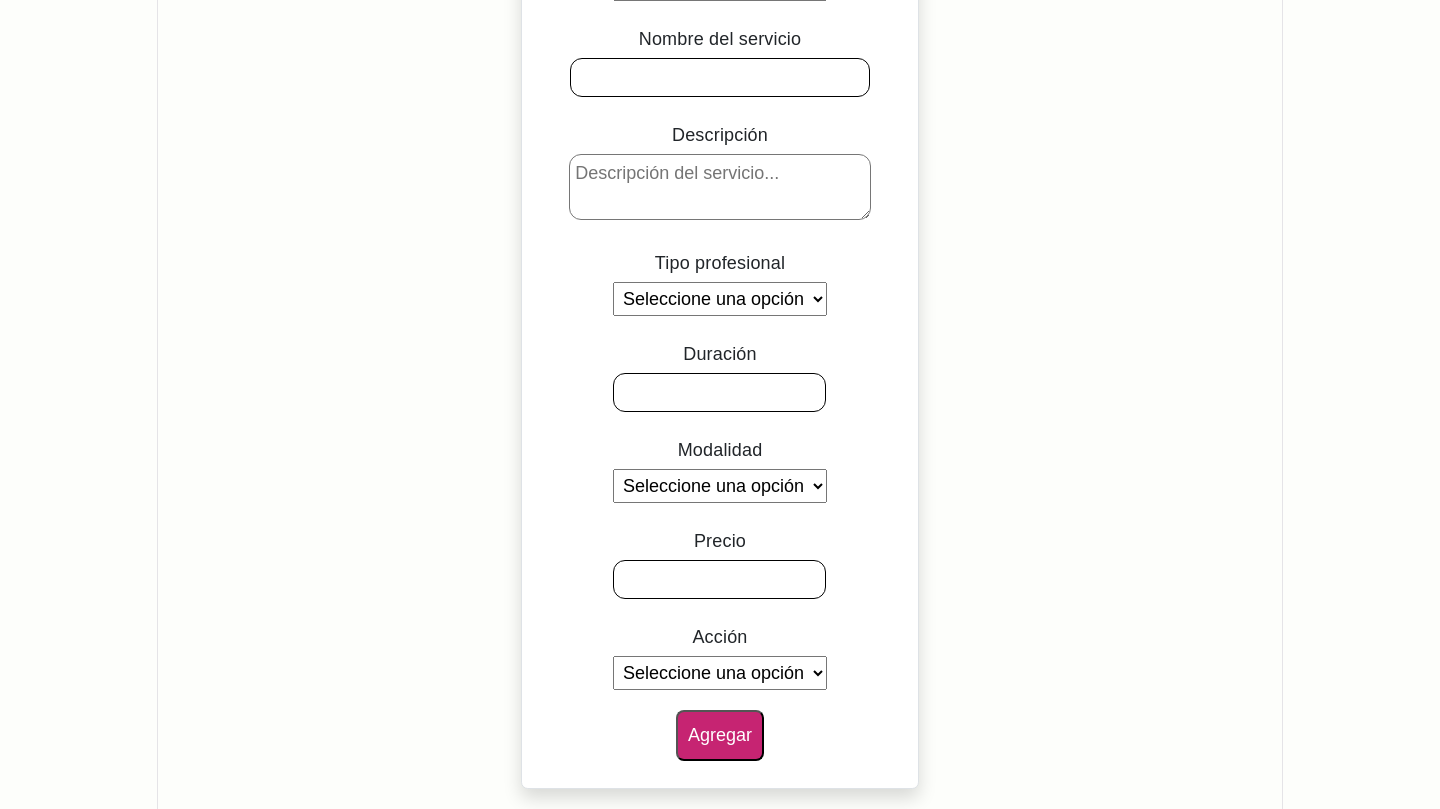
Componente Agregar › 2. Muestra un error cuando los campos están vacíos
The image size is (1440, 809).
(page scrolled)
Click the button "Agregar" at (720, 736), box [676,710,764,761]
(page scrolled)
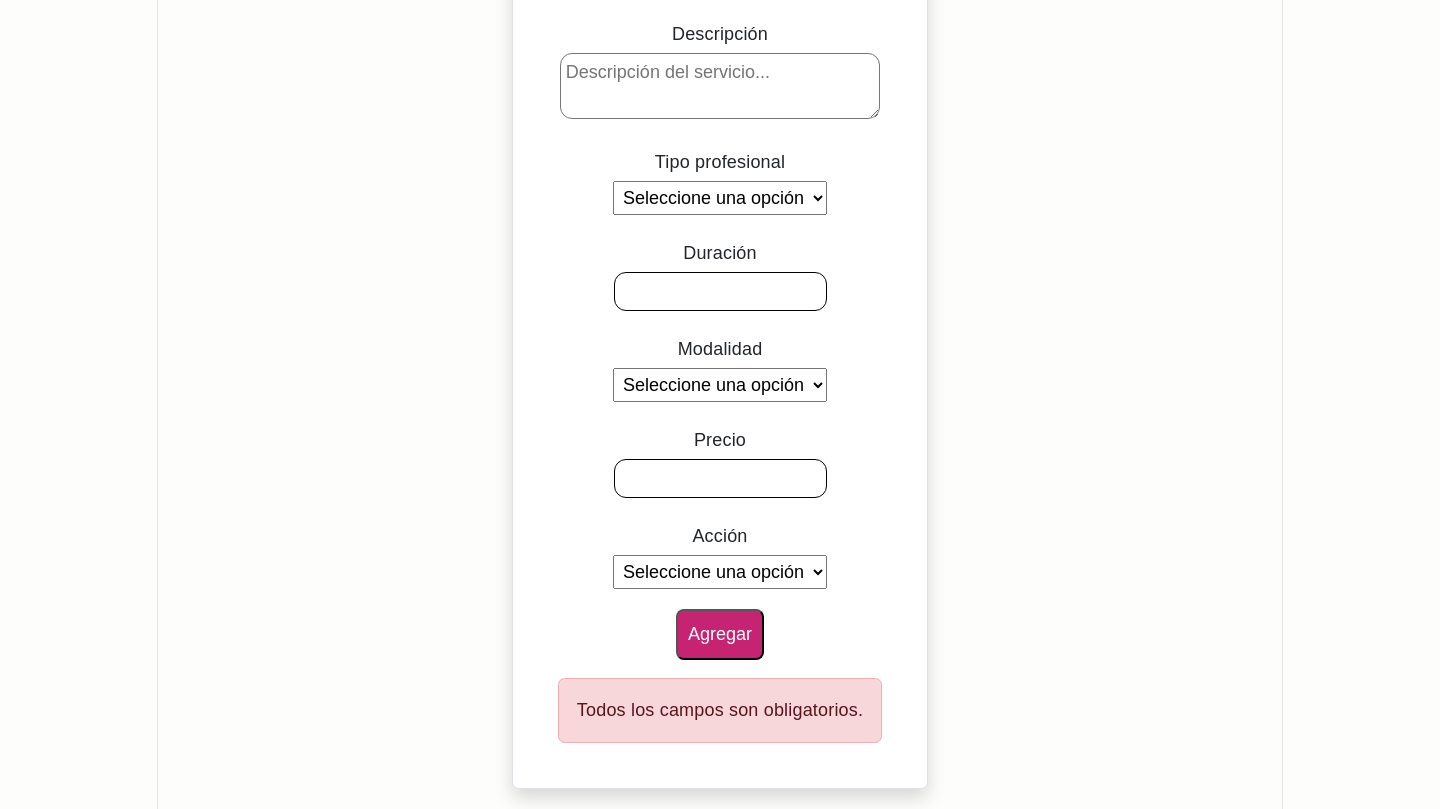
Check: the text "Todos los campos son obligatorios." is shown, box [558,678,882,743]
